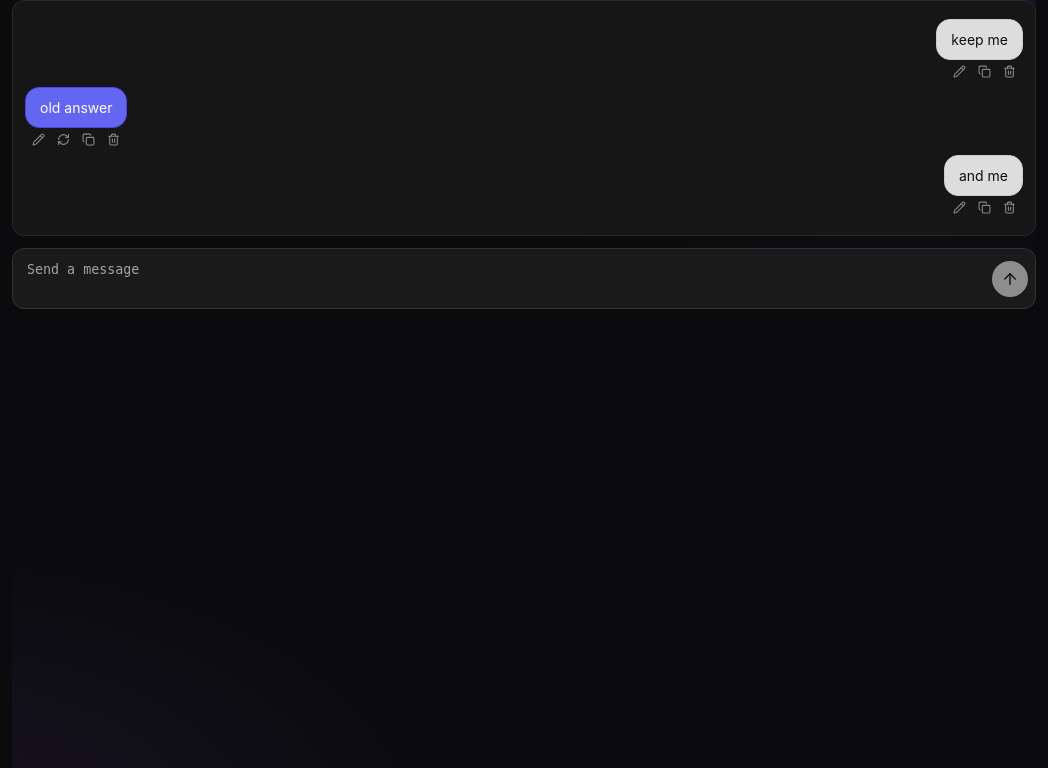
Test: Chorus editableRoles › editing an assistant bubble updates it in place without truncating or re-sending
# Edit the assistant row (Edit buttons are in DOM order: u1, a1, u2).
Click the button titled "Edit" below "old answer" at (38, 140), box x1=27 y1=130 x2=50 y2=149
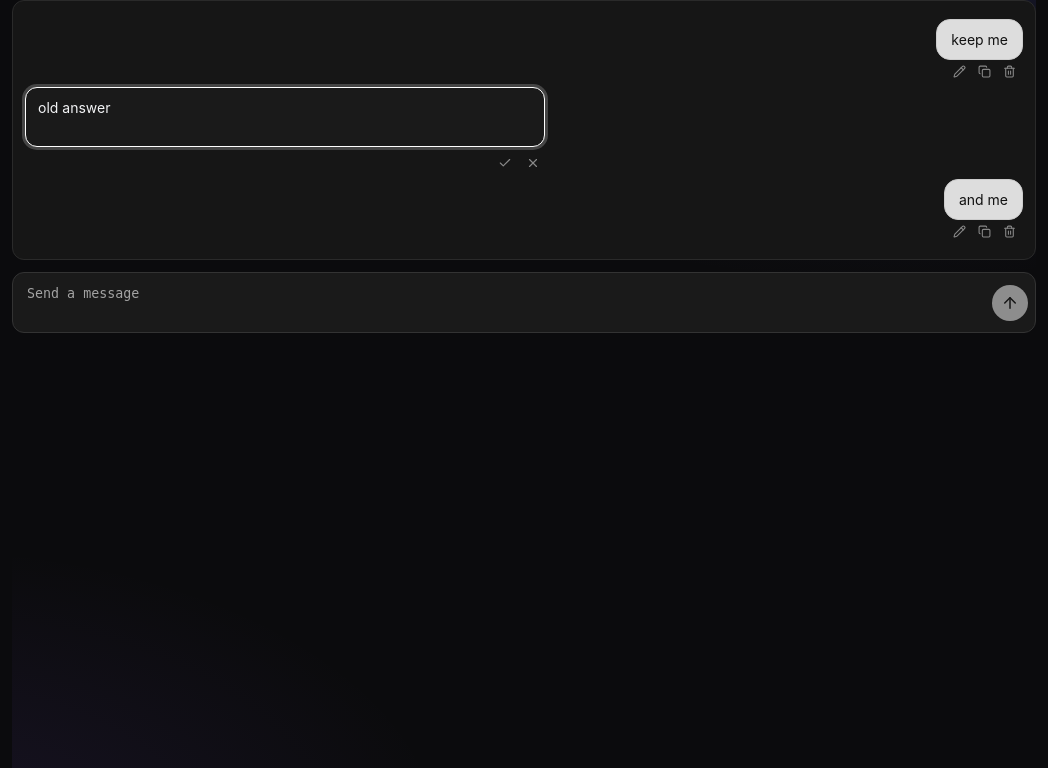
Replace the text in the text box showing "old answer" with "corrected answer" at (285, 117), box x1=25 y1=87 x2=545 y2=147
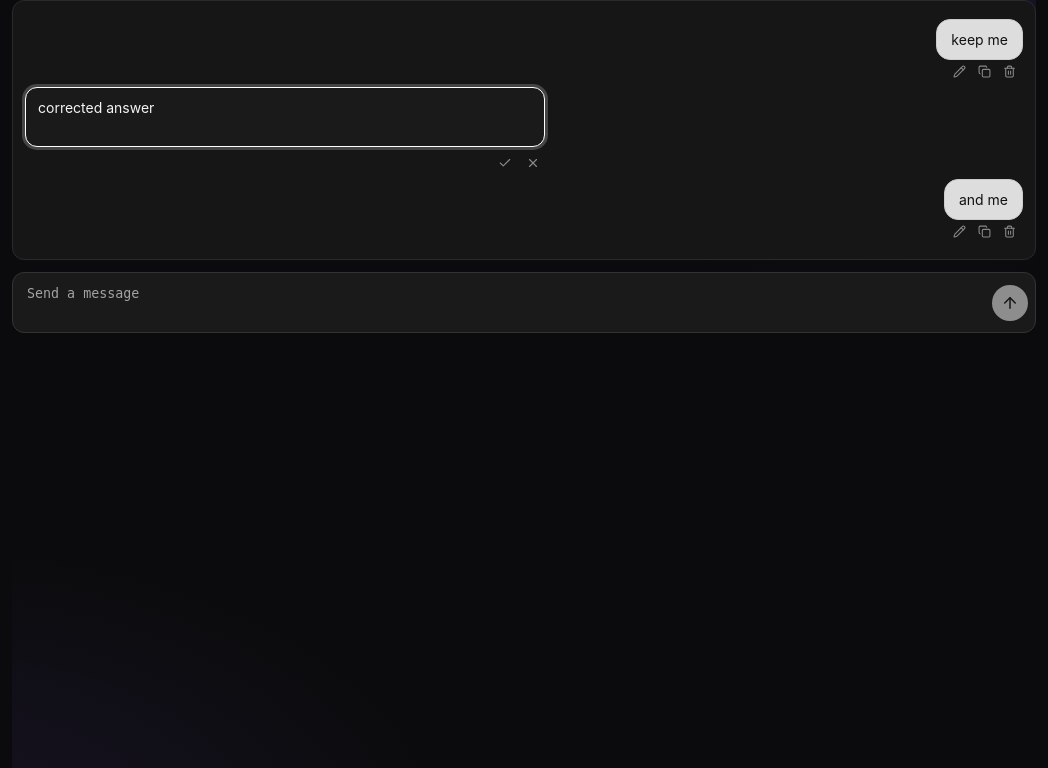
Click the button titled "Save" at (505, 163), box x1=493 y1=153 x2=517 y2=173
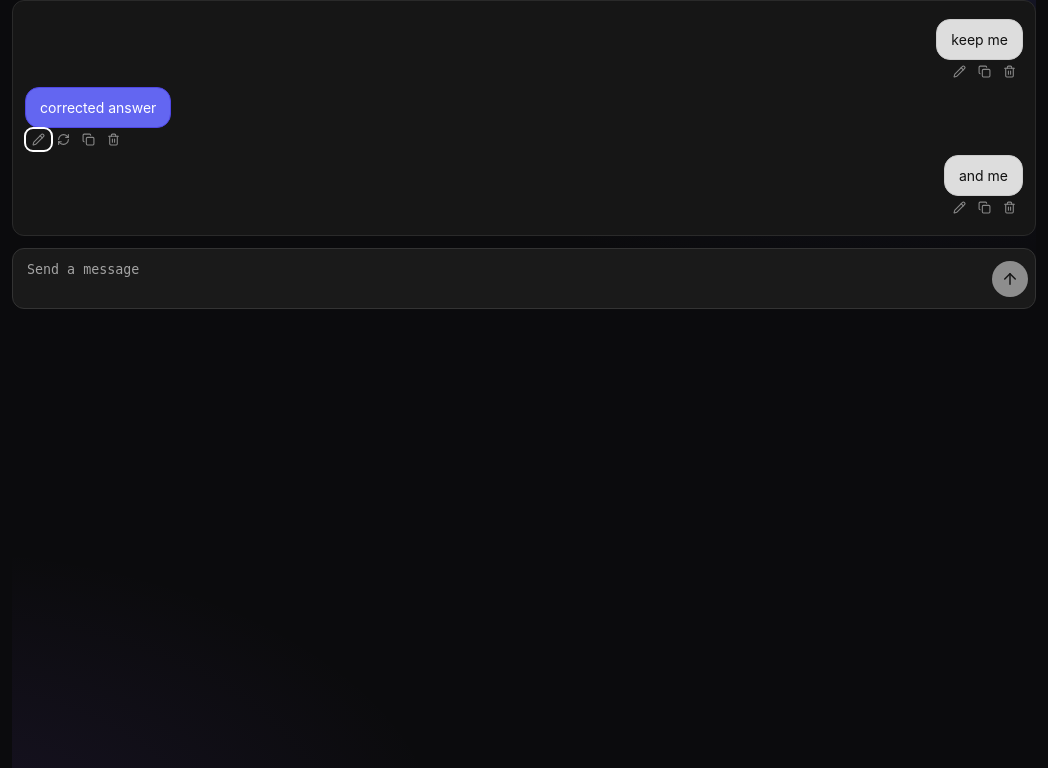
Expected: the text "old answer" is not shown
Result: the text "corrected answer" is shown at x1=40 y1=97 x2=156 y2=118
